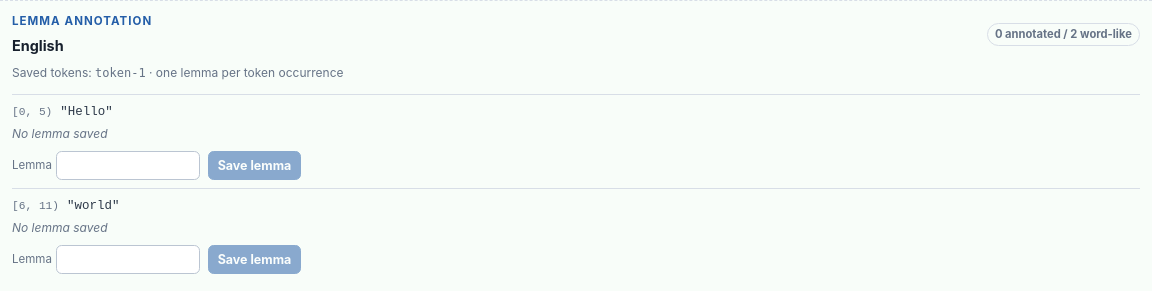
Test: LemmaAnnotationPanel › shows the unannotated state and disables save until the input changes
Expected: the text "No lemma saved" is shown 2 times, x1=12 y1=125 x2=108 y2=143; x1=12 y1=219 x2=108 y2=237
Expected: the button "Save lemma" below "\"Hello\"" is disabled, x1=208 y1=151 x2=301 y2=180
In the field named "Lemma for Hello": point(128, 166) x1=56 y1=151 x2=200 y2=180, type "house"
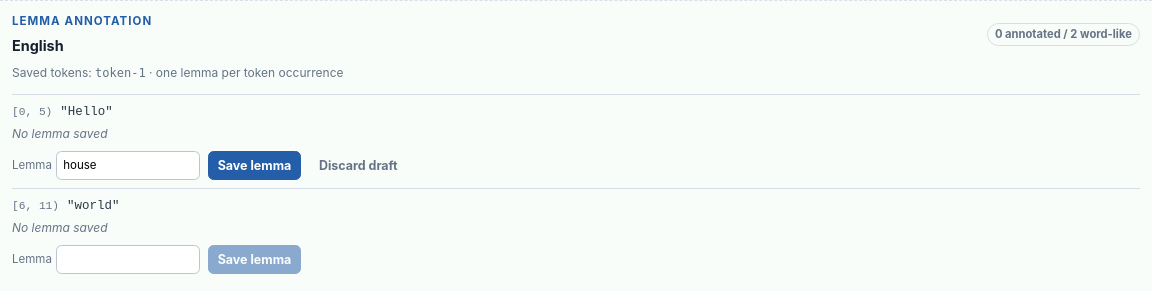
Result: the button "Save lemma" below "\"Hello\"" is enabled at x1=208 y1=151 x2=301 y2=180
Logical no-op: reverting to the saved value disables save again.
Clear the field named "Lemma for Hello": point(128, 166) x1=56 y1=151 x2=200 y2=180
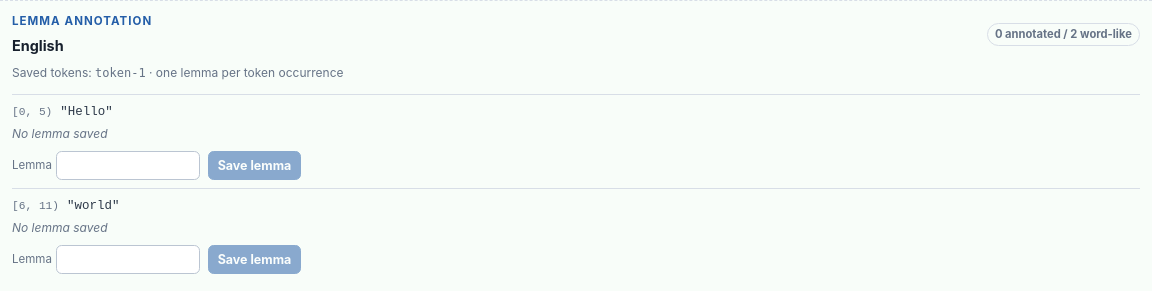
Result: the button "Save lemma" below "\"Hello\"" is disabled at x1=208 y1=151 x2=301 y2=180
